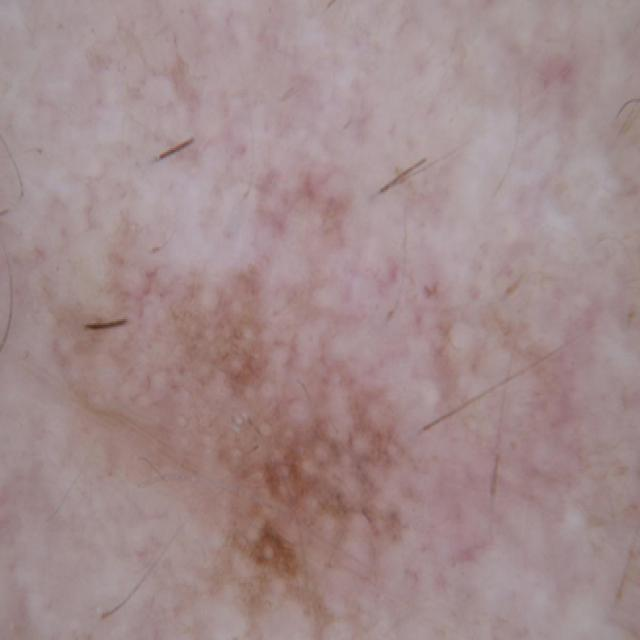Keratosis: (120, 228, 522, 640)
